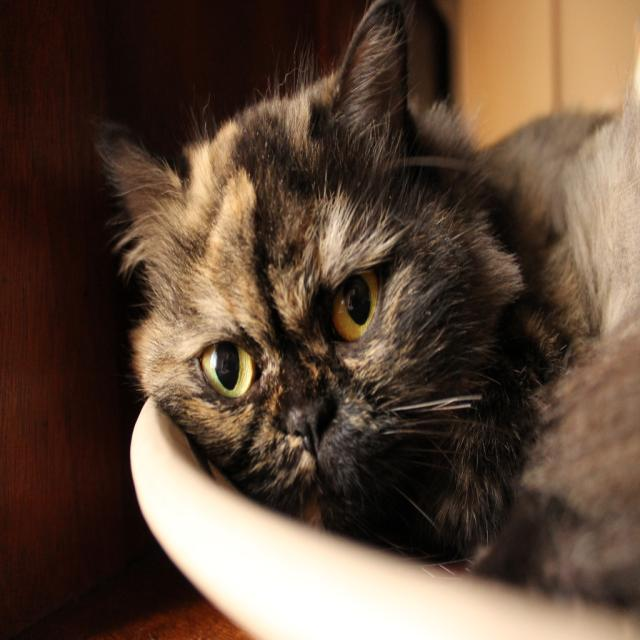Cat: (90, 0, 640, 607)
